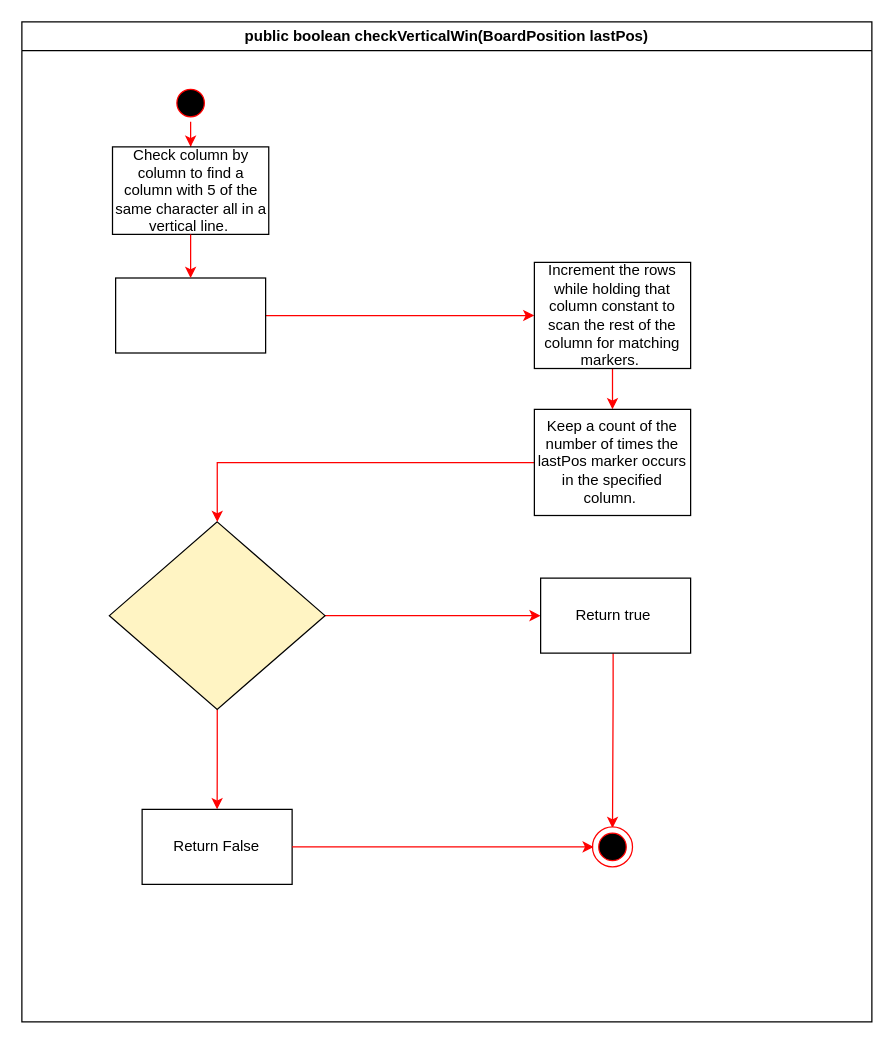
This 894x1044 diagram has some shape labels left out. The shapes that lost their labels are listed below. From the top down, each one's centre as x and y in pixels, then its label:
At point 190,315: "Use pos.getColumn() to find the column that the last marker was placed in.".
At point 216,615: "Does the column have 5 of the same marker as lastPos?".
